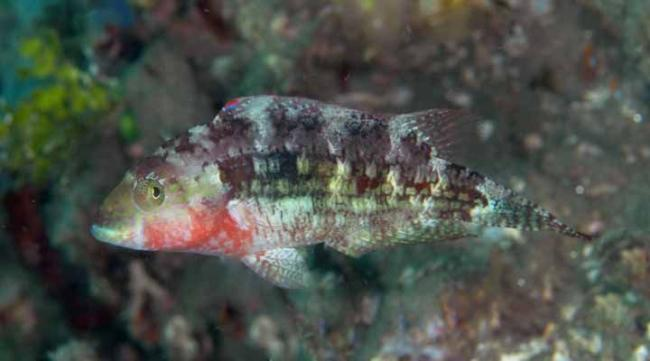fish: (90, 94, 593, 288)
